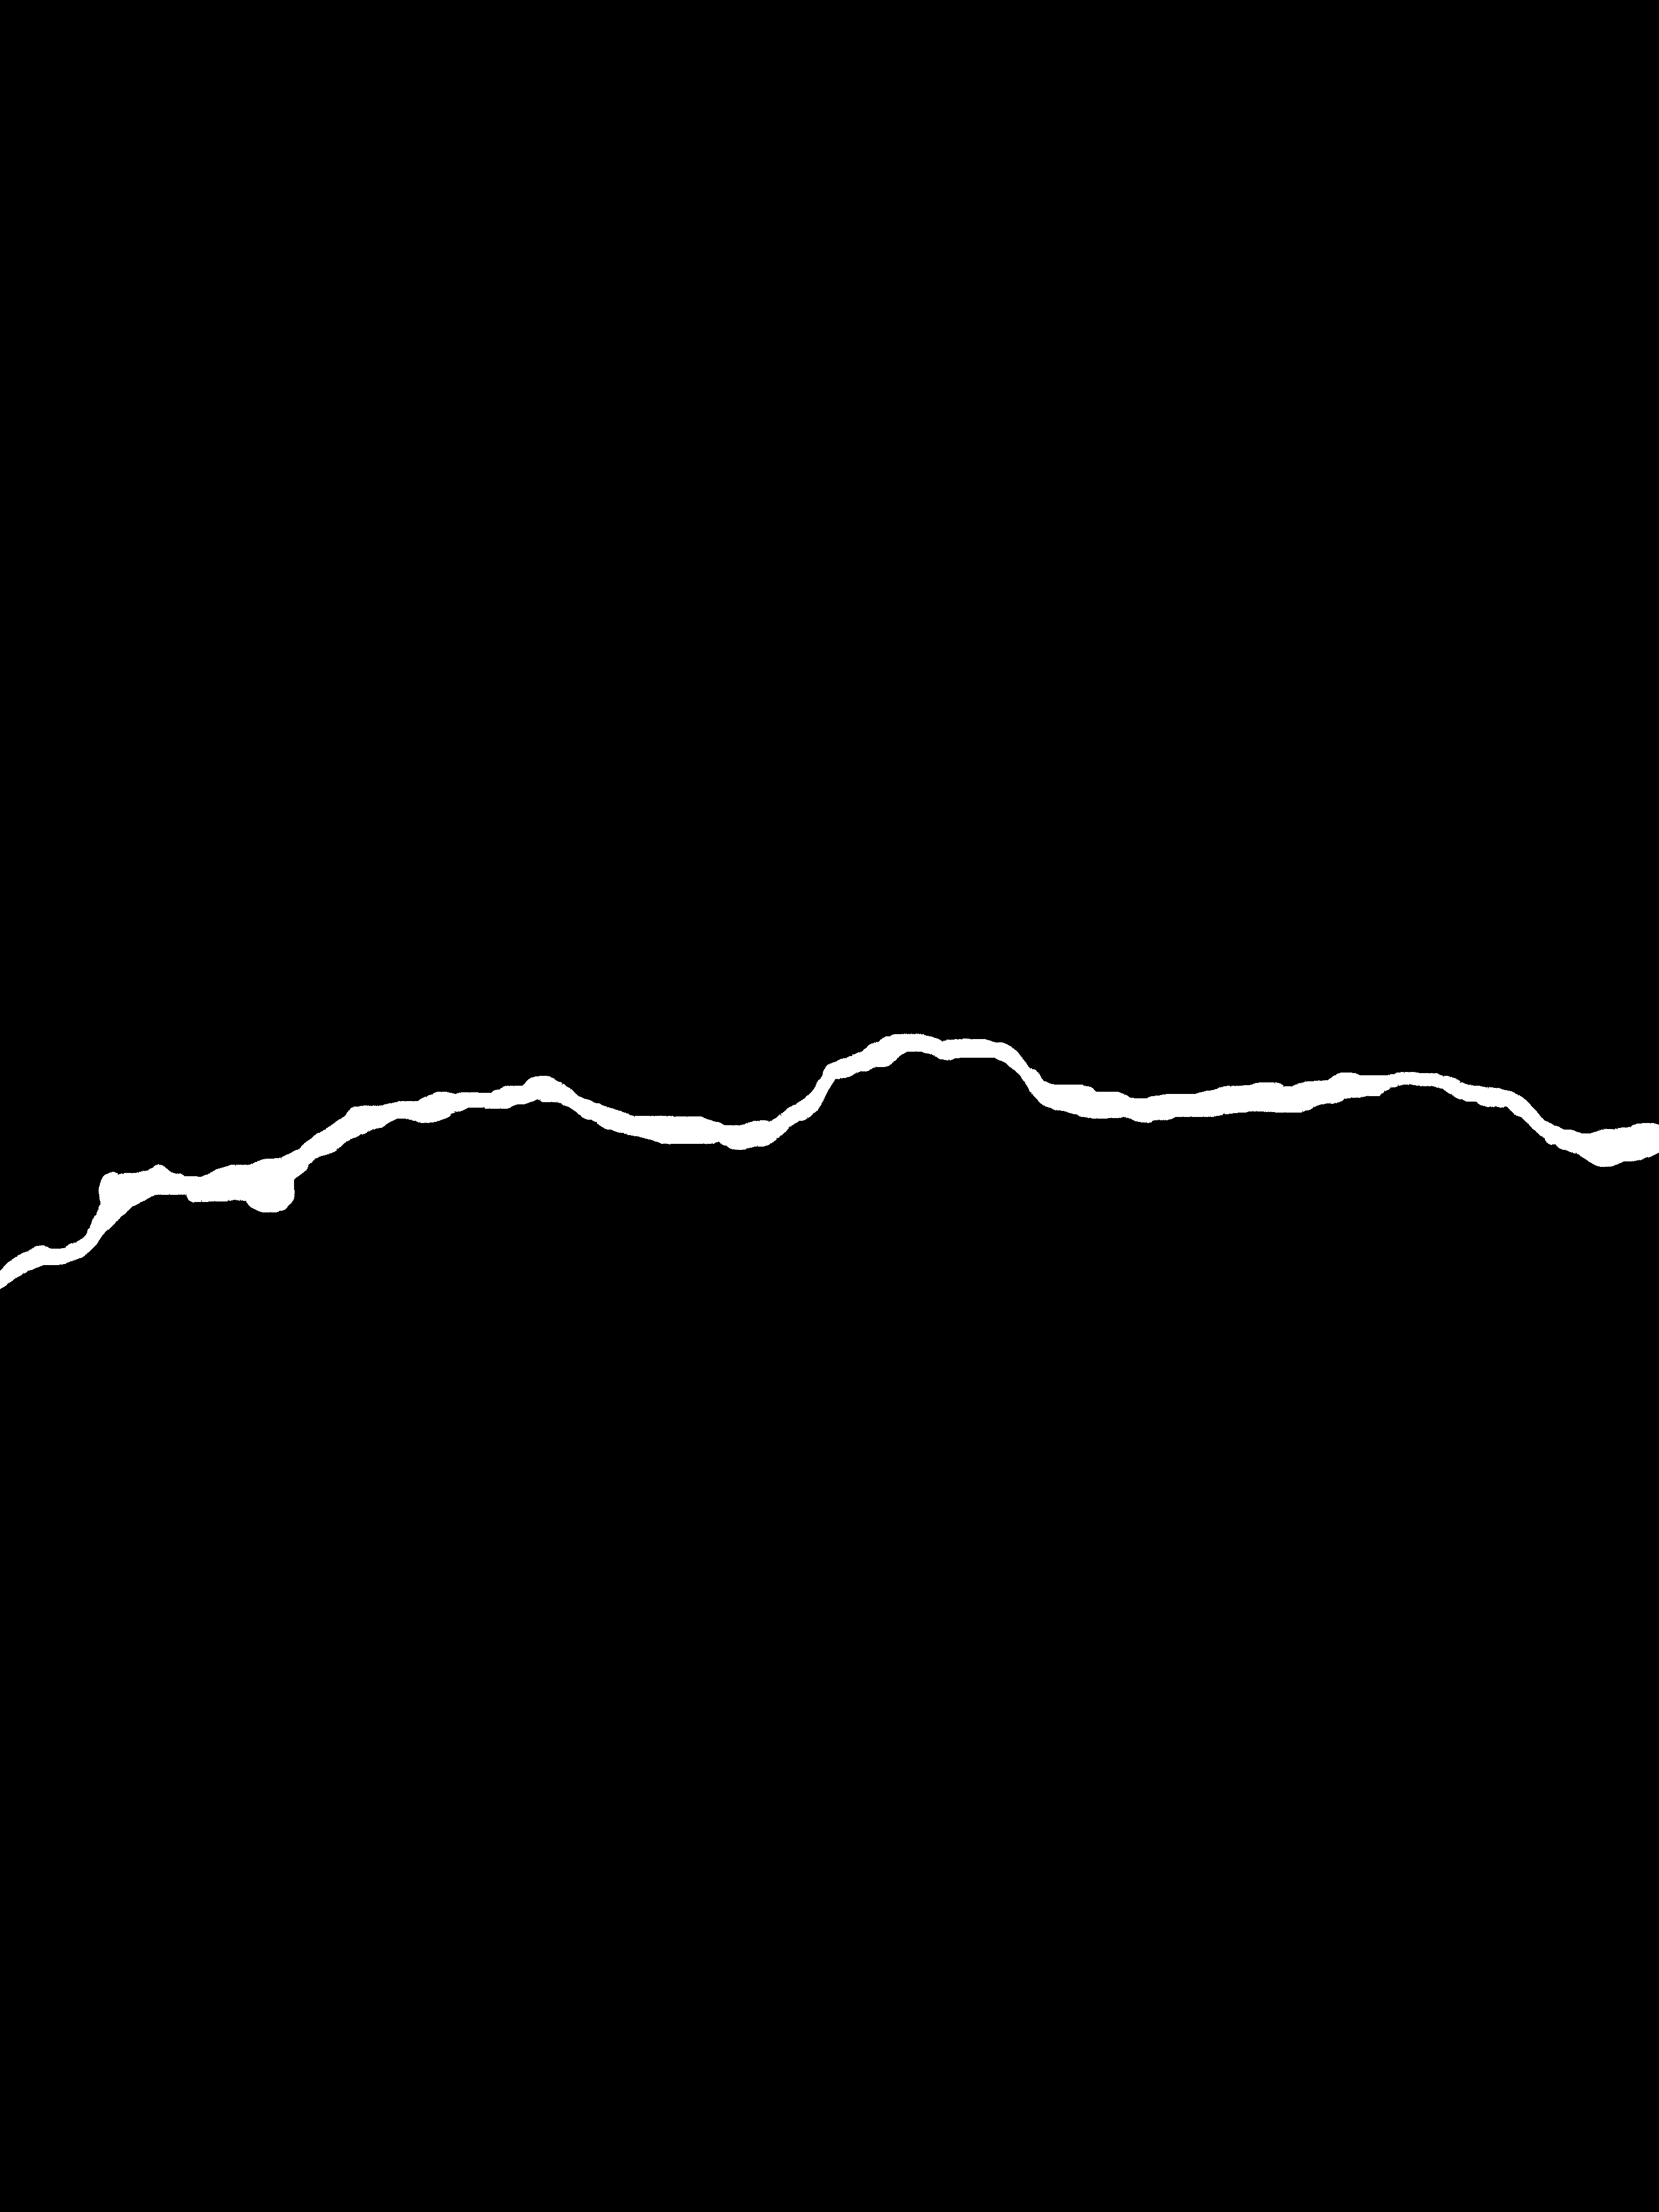Crack: (0, 1005, 1659, 1315)
